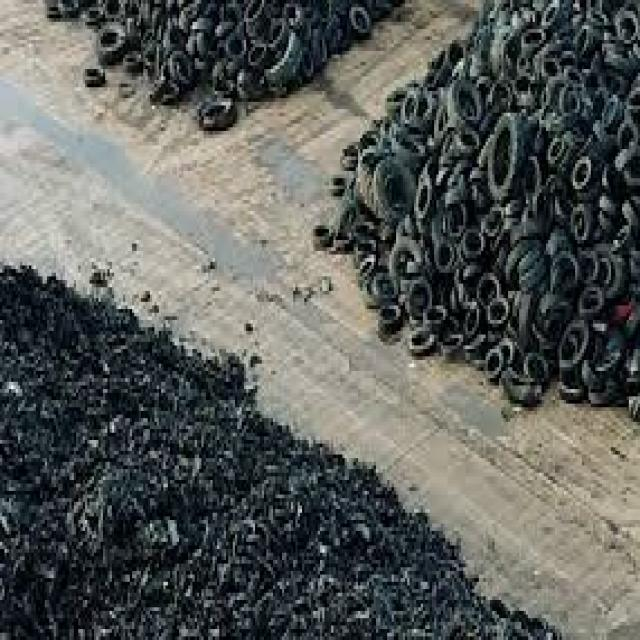Rubber -Non-Biodegradable but Recyclable-: (2, 264, 572, 636), (314, 14, 640, 397), (72, 5, 399, 122)
